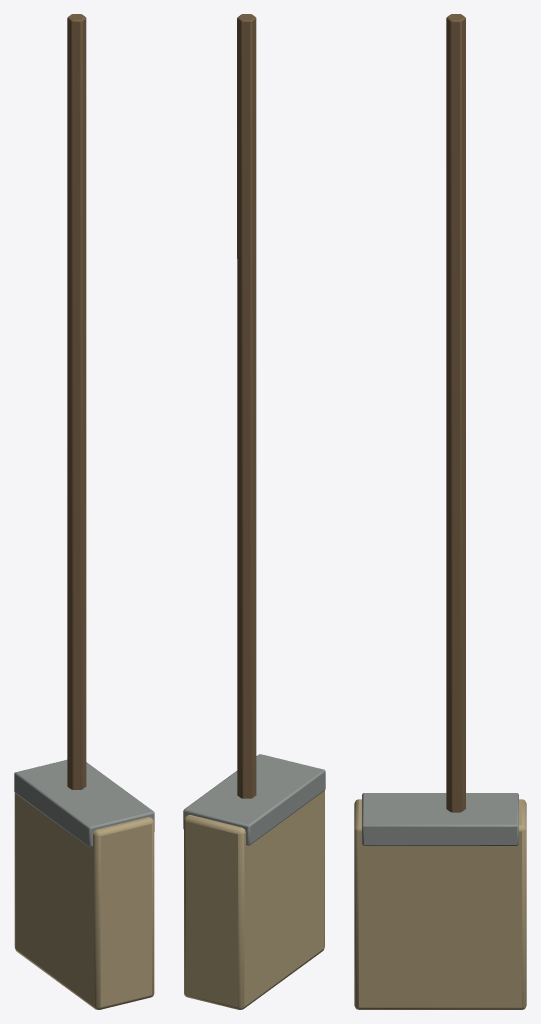
The model's file is CayChoi.glb.
The picture shows the model from 3 angles, left to right: view 1: azimuth 30°, elevation 25°; view 2: azimuth 150°, elevation 25°; view 3: azimuth 270°, elevation 25°; orthographic projection. The views are drawn at different scales.
Visible parts, largest first — view 1: bo, CayChoi; view 2: bo, CayChoi; view 3: bo, CayChoi.
Boxes of the visible parts, <box> form: bo: <box>14,793,154,1009</box>; CayChoi: <box>14,14,154,847</box>; bo: <box>184,790,324,1009</box>; CayChoi: <box>183,14,325,845</box>; bo: <box>354,799,526,1009</box>; CayChoi: <box>362,14,518,845</box>.
Size of the model in its own units: 0.1 by 1.38 by 0.22.
